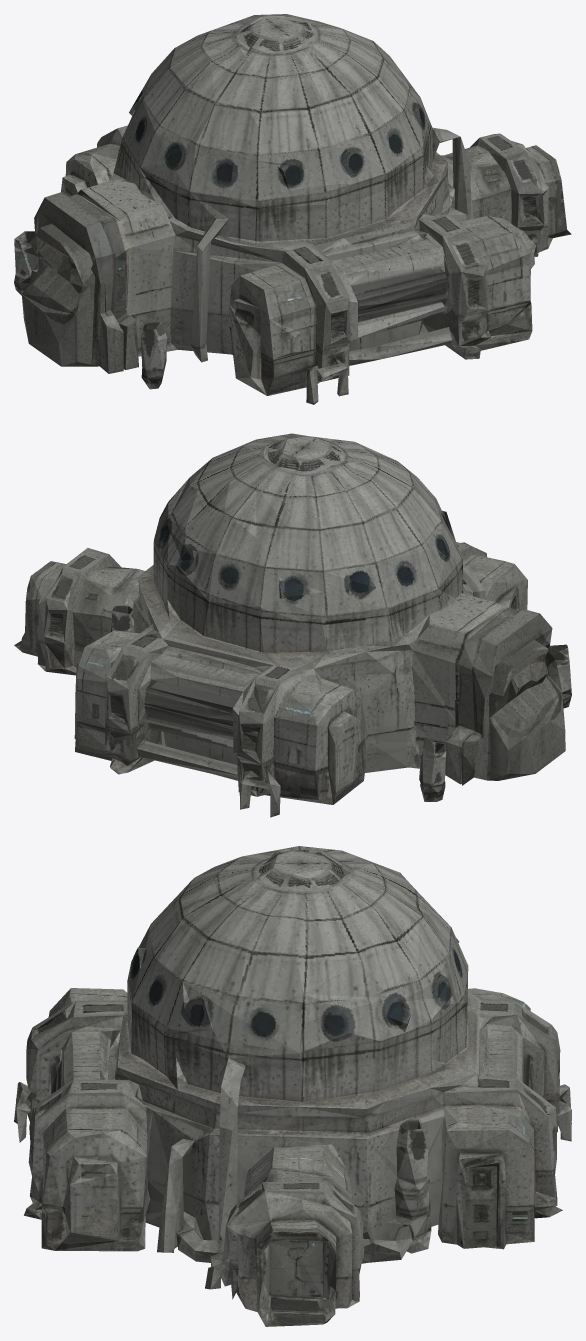
The model's file is struct.landmark.glb.
The picture shows the model from 3 angles, top to bottom: view 1: azimuth 30°, elevation 25°; view 2: azimuth 150°, elevation 25°; view 3: azimuth 270°, elevation 25°; orthographic projection. The views are drawn at different scales.
Visible parts, largest first — view 1: body; view 2: body; view 3: body.
Boxes of the visible parts, x1=… form: body: x1=14, y1=14, x2=571, y2=404; body: x1=14, y1=433, x2=571, y2=817; body: x1=14, y1=846, x2=571, y2=1326.
Size of the model in its own units: 4.39 by 2.14 by 3.51.
1 material, 1 textured.
